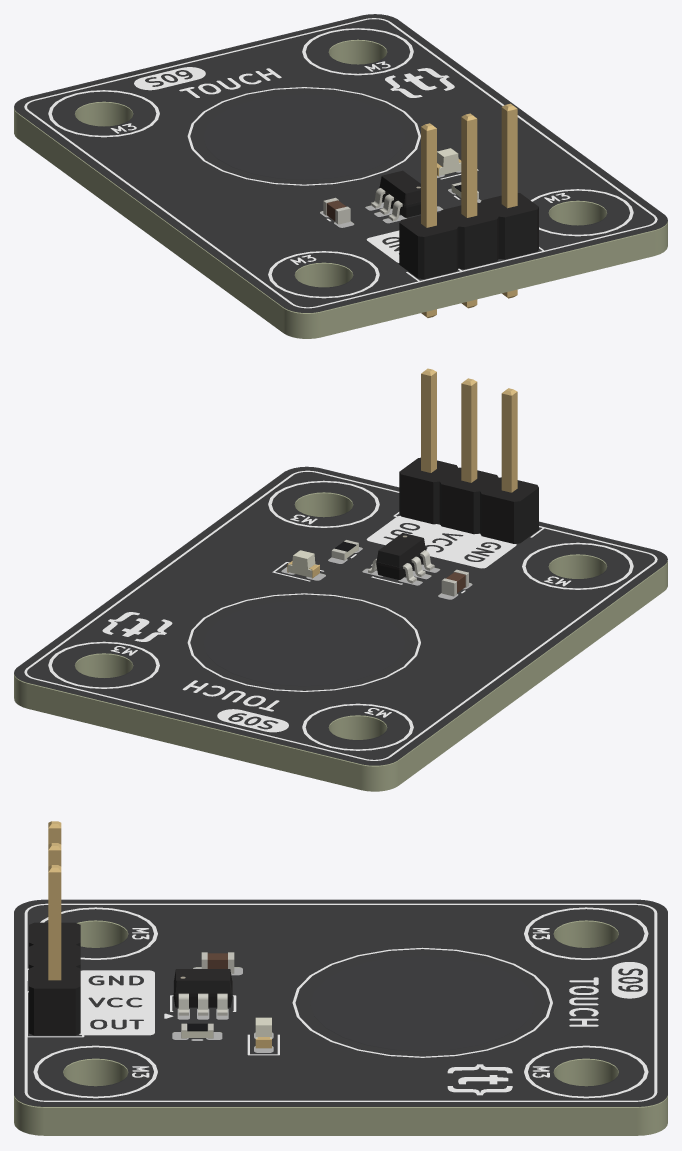
3 views of the same model, one above another, from view 1: azimuth 30°, elevation 25°; view 2: azimuth 150°, elevation 25°; view 3: azimuth 270°, elevation 25° (orthographic). The views are drawn at different scales.
Visible parts, largest first — view 1: =>[0:1:1:10], =>[0:1:1:12], J1, =>[0:1:1:8], U1, D1, C1; view 2: =>[0:1:1:10], =>[0:1:1:12], J1, =>[0:1:1:8], U1, D1, =>[0:1:1:7]; view 3: =>[0:1:1:10], =>[0:1:1:12], =>[0:1:1:8], J1, U1, =>[0:1:1:7], C1, D1, R1.
Boxes of the visible parts, bbox=[...] form: =>[0:1:1:10]: bbox=[14, 14, 667, 312]; =>[0:1:1:12]: bbox=[14, 39, 667, 338]; J1: bbox=[399, 103, 538, 317]; =>[0:1:1:8]: bbox=[24, 18, 657, 308]; U1: bbox=[371, 170, 437, 221]; D1: bbox=[437, 148, 461, 176]; C1: bbox=[323, 197, 350, 224]; =>[0:1:1:10]: bbox=[14, 466, 667, 765]; =>[0:1:1:12]: bbox=[14, 492, 667, 791]; J1: bbox=[399, 368, 538, 543]; =>[0:1:1:8]: bbox=[24, 470, 657, 760]; U1: bbox=[368, 533, 434, 583]; D1: bbox=[287, 550, 319, 578]; =>[0:1:1:7]: bbox=[281, 547, 472, 599]; =>[0:1:1:10]: bbox=[14, 899, 667, 1106]; =>[0:1:1:12]: bbox=[14, 920, 667, 1135]; =>[0:1:1:8]: bbox=[24, 903, 657, 1101]; J1: bbox=[29, 821, 80, 1035]; U1: bbox=[173, 969, 232, 1015]; =>[0:1:1:7]: bbox=[172, 967, 273, 1052]; C1: bbox=[201, 952, 234, 973]; D1: bbox=[255, 1017, 271, 1048]; R1: bbox=[181, 1023, 213, 1038].
Size of the model in its own units: 0.024 by 0.0115 by 0.032.
